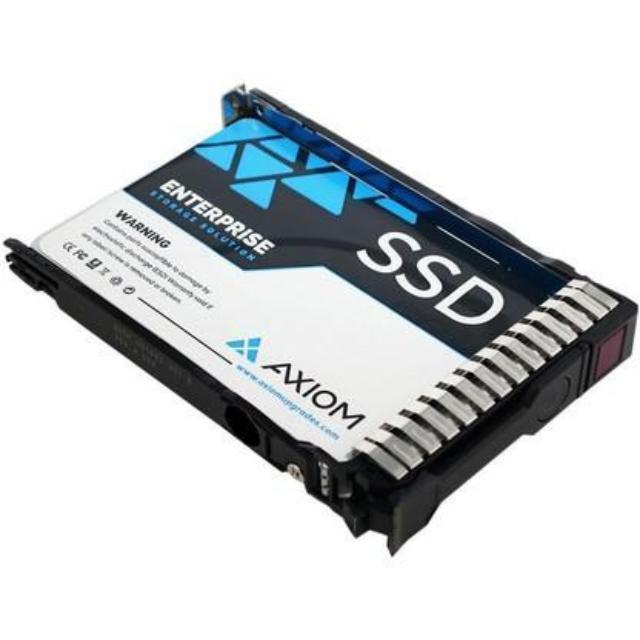DISK: (29, 108, 542, 450)
